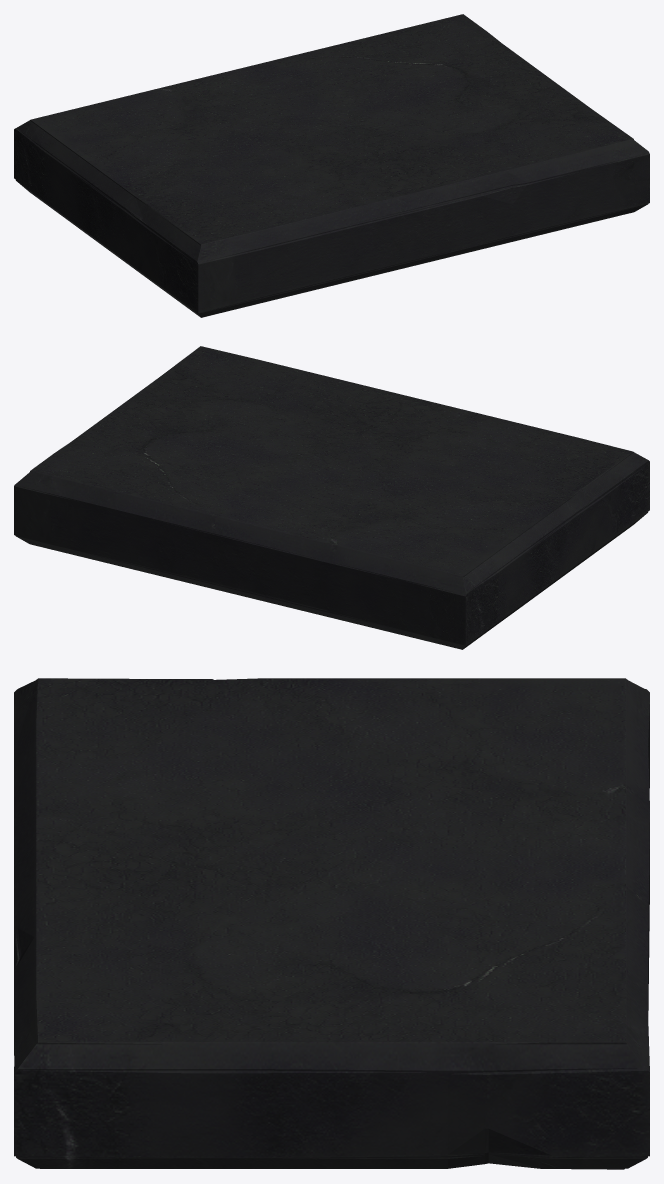
The model's file is Meshy_AI_Plataforma_Piso_de_Pi_0703115209_texture.glb.
3 renders of one model, top to bottom at view 1: azimuth 30°, elevation 25°; view 2: azimuth 150°, elevation 25°; view 3: azimuth 270°, elevation 25°, orthographic. The views are drawn at different scales.
Bounding box in the file's own units: 1.91 × 0.2975 × 1.34.
Materials: 1 (1 with a texture image).
